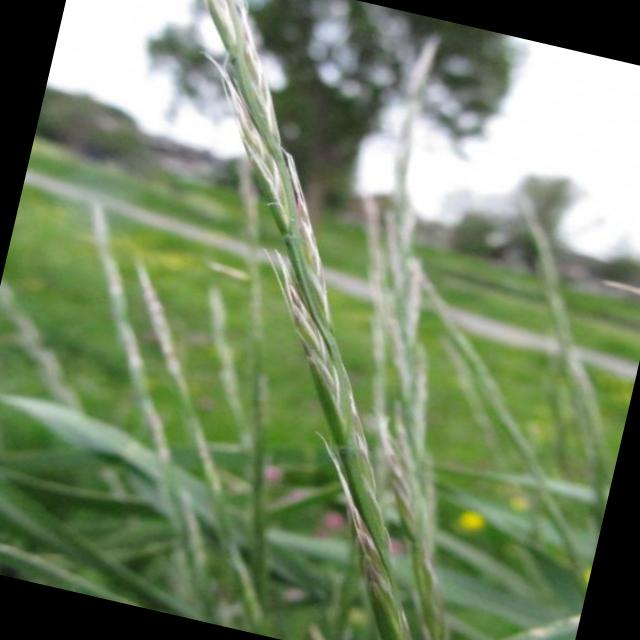Lolium: (68, 0, 521, 586), (285, 36, 559, 591)
